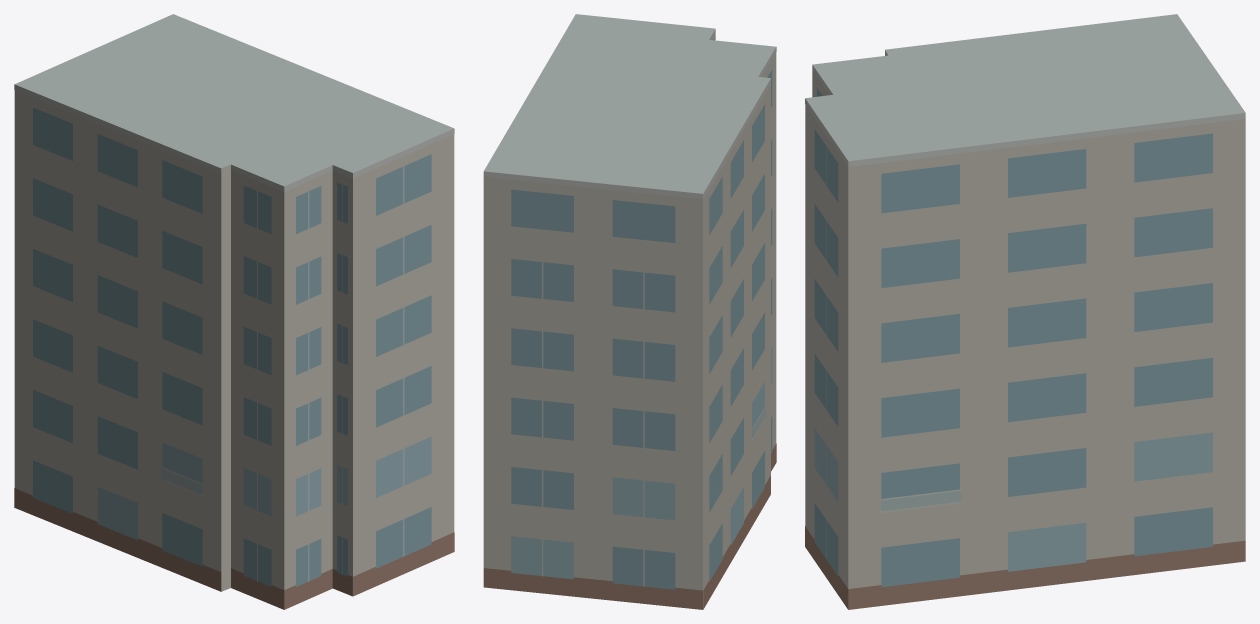
Rendered from survey-upis-33035420.glb.
The picture shows the model from 3 angles, left to right: view 1: azimuth 30°, elevation 25°; view 2: azimuth 150°, elevation 25°; view 3: azimuth 270°, elevation 25°; orthographic projection. The views are drawn at different scales.
Parts seen in each view (by area): view 1: survey-upis-33035420.tmp; view 2: survey-upis-33035420.tmp; view 3: survey-upis-33035420.tmp.
Part boxes in pixels (x1=…): survey-upis-33035420.tmp: x1=14, y1=14, x2=454, y2=609; survey-upis-33035420.tmp: x1=483, y1=14, x2=776, y2=609; survey-upis-33035420.tmp: x1=805, y1=14, x2=1245, y2=609.
Size of the model in its own units: 13.07 by 18.55 by 16.52.
